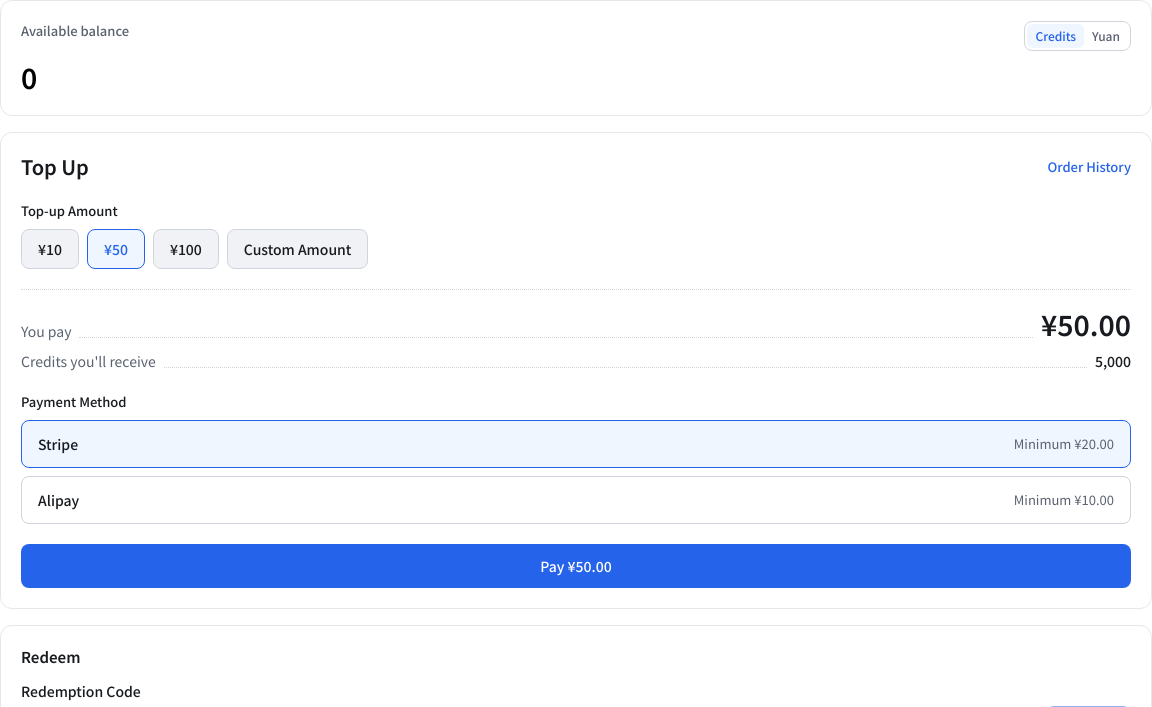
Test: TopupPage › uses the selected provider min for validation and preview
Expected: the text with test id "summary-pay" reads "¥50.00", [1041,304,1131,344]
Expected: the radio button labelled "Stripe" shows "Minimum ¥20.00", [21,420,1131,468]
Click the radio button labelled "¥10" at (50, 249), box [21,229,79,269]
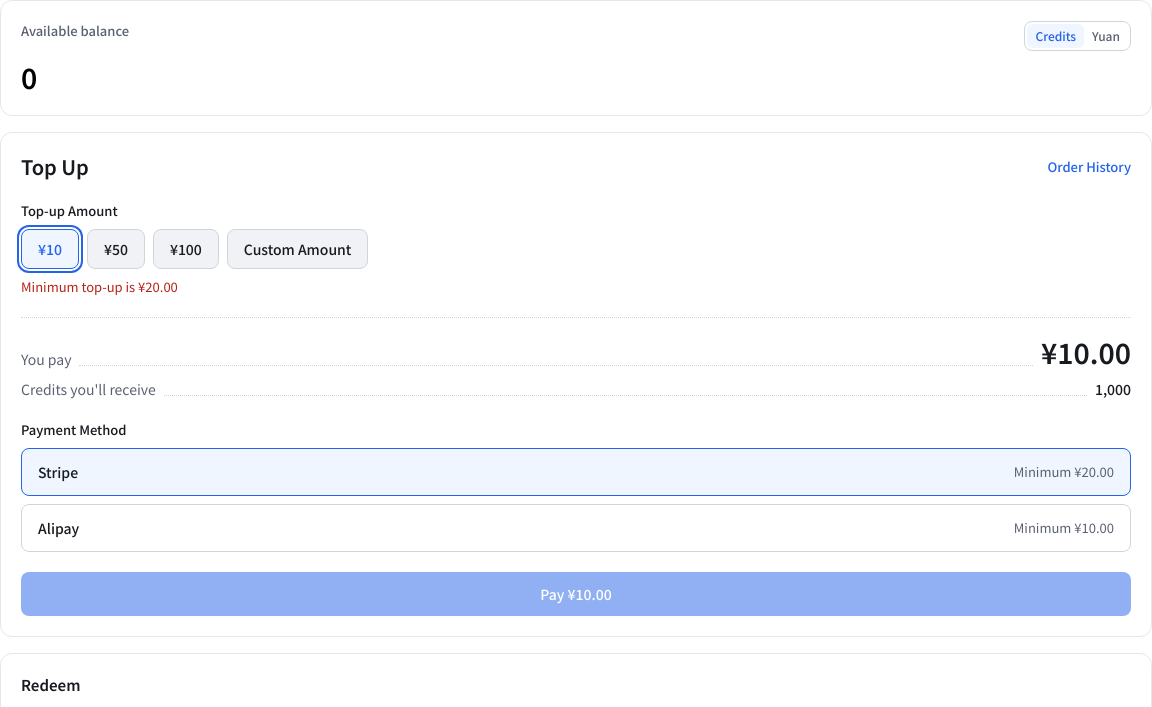
Result: the text "Minimum top-up is ¥20.00" is shown at [21,277,178,296]
Result: the button "Pay ¥10.00" is disabled at [21,572,1131,616]
// Switching to Alipay lowers the effective minimum back to ¥10.
Click the radio button labelled "Alipay" at (59, 528), box [21,504,1131,552]
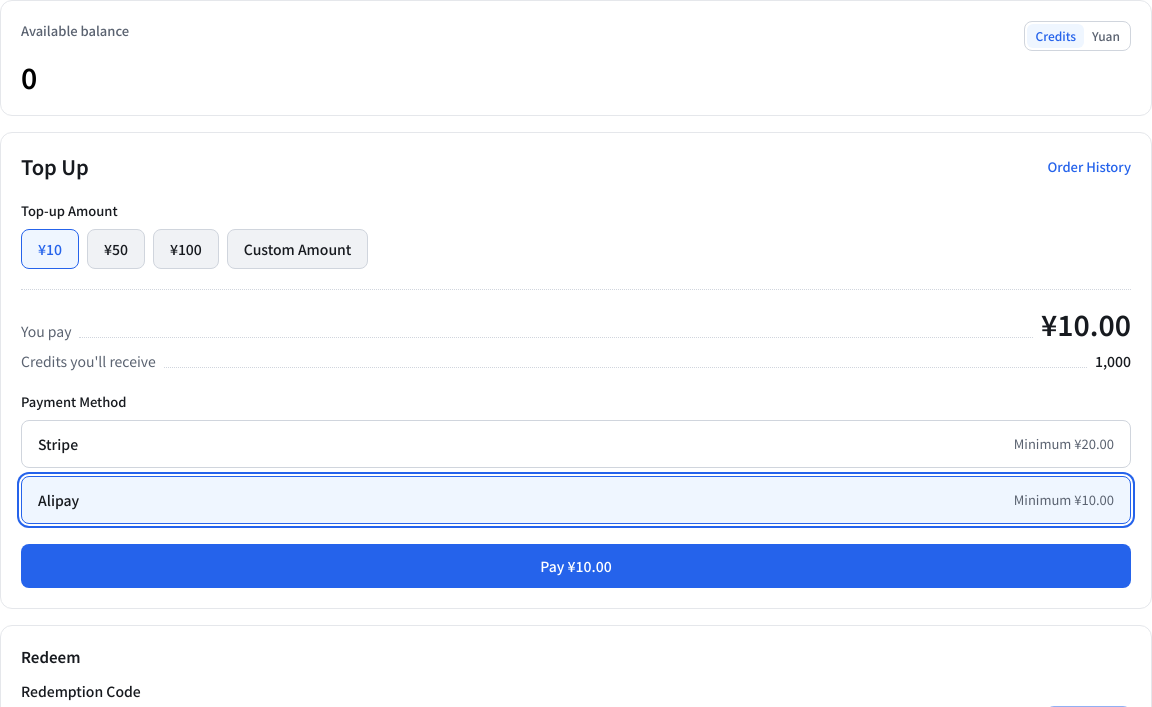
Result: the text with test id "summary-credits" reads "1,000" at [1095,351,1131,371]
Result: the text "Minimum top-up is ¥20.00" is gone
Result: the button "Pay ¥10.00" is enabled at [21,544,1131,588]
